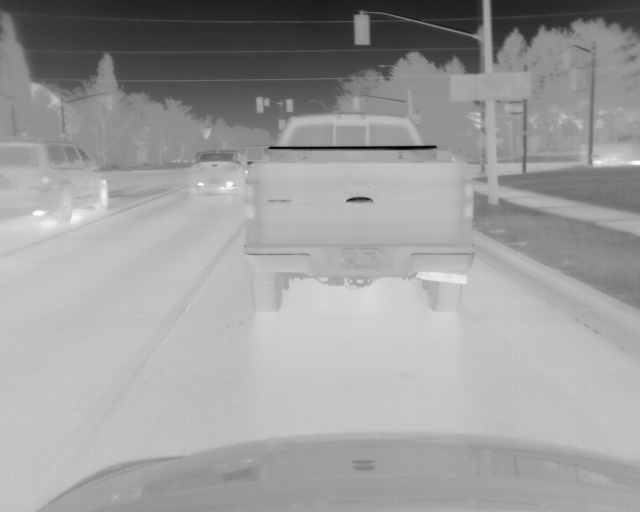car: (244, 111, 473, 315), (3, 141, 108, 222), (190, 149, 247, 196), (578, 133, 640, 165)
